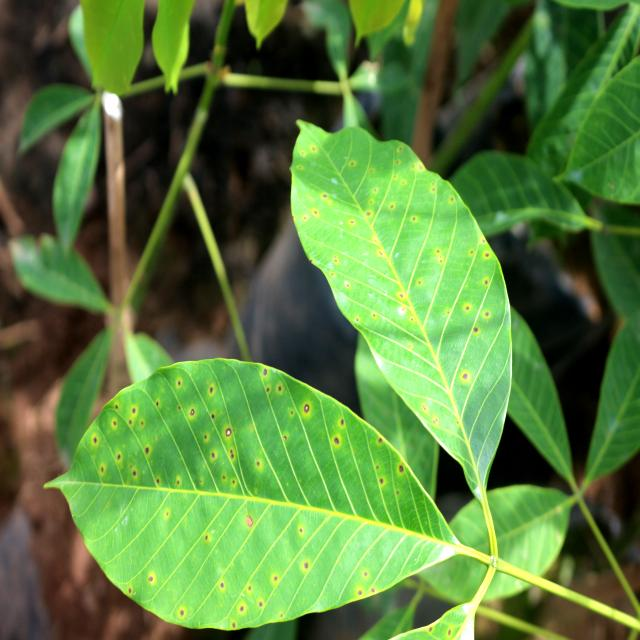Colletotrichum: (246, 516, 252, 527), (304, 404, 310, 412), (226, 429, 232, 436), (190, 409, 194, 416)
